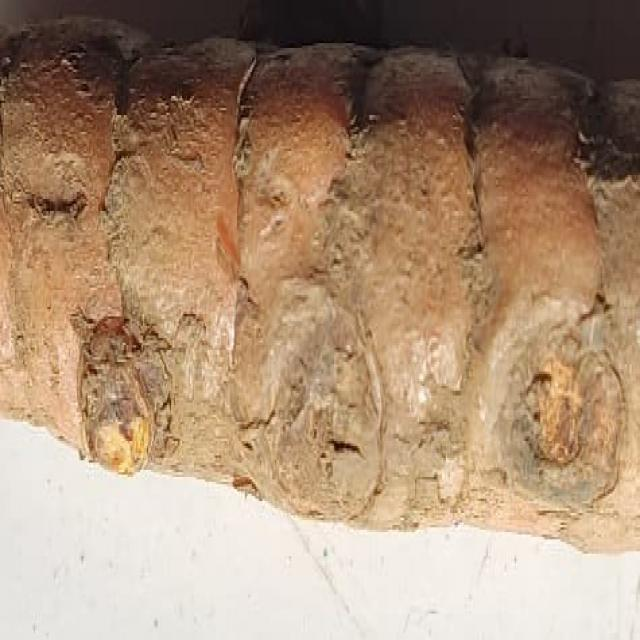ginger: (0, 7, 629, 536)
